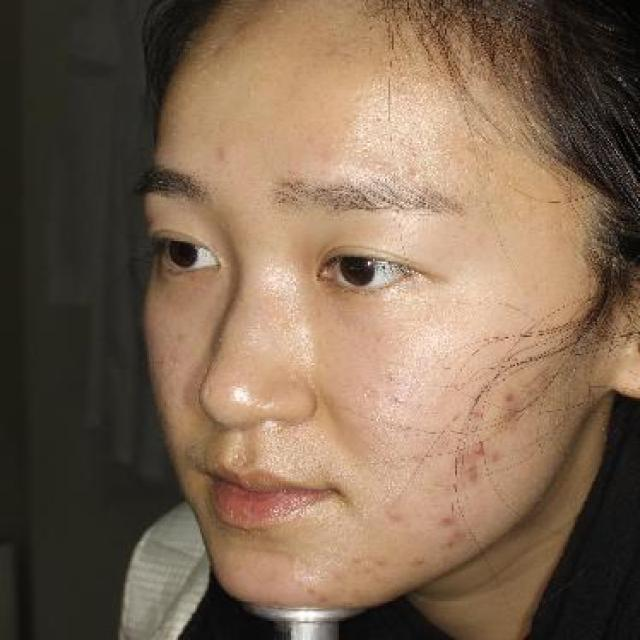blackheads: (390, 395, 406, 408)
pustules: (474, 441, 489, 454)
